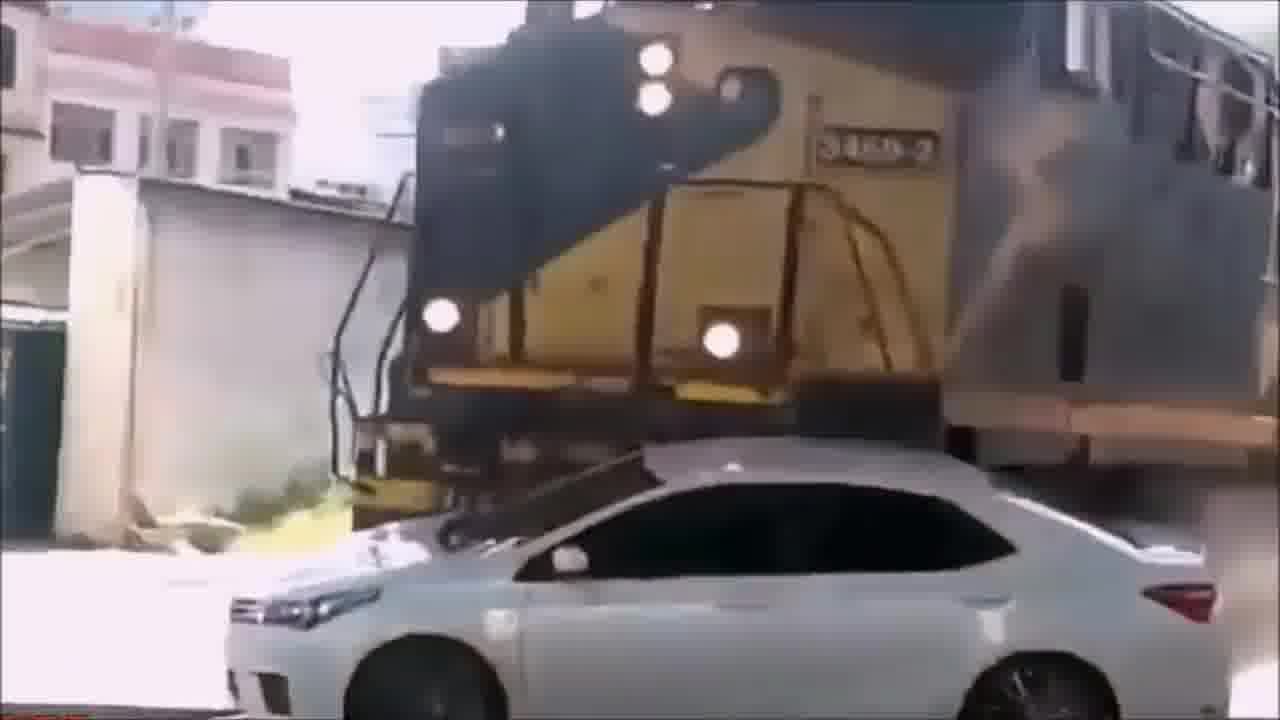crossing railway track: (163, 449, 1234, 720)
